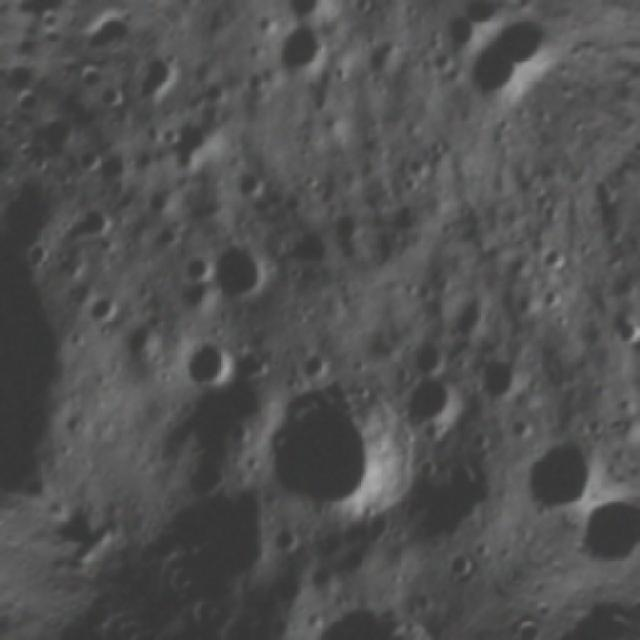crater: (126, 453, 302, 629), (239, 366, 413, 540), (494, 416, 618, 539), (268, 566, 446, 640), (381, 346, 481, 446), (41, 463, 136, 559), (198, 234, 284, 320), (252, 12, 338, 98), (120, 32, 206, 118), (454, 39, 531, 115), (170, 326, 245, 403), (463, 336, 535, 410), (54, 192, 124, 260), (212, 151, 278, 217), (68, 284, 126, 342), (131, 168, 183, 221), (177, 247, 229, 299), (264, 0, 339, 34), (612, 346, 640, 419), (111, 43, 152, 86)
